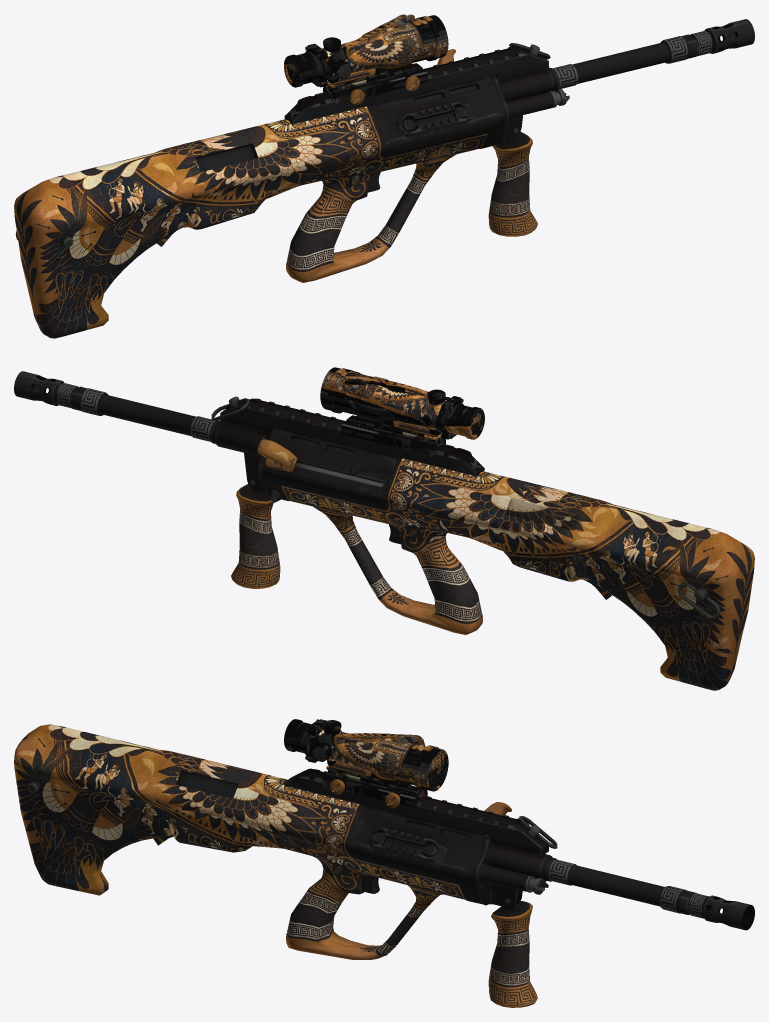
The model's file is w_specialcarbine_stymphalian_birds.glb.
The picture shows the model from 3 angles, top to bottom: view 1: azimuth 30°, elevation 25°; view 2: azimuth 150°, elevation 25°; view 3: azimuth 330°, elevation 25°; orthographic projection.
Parts seen in each view (by area): view 1: Gun_Root; view 2: Gun_Root; view 3: Gun_Root.
Part boxes in pixels (<box>): Gun_Root: <box>14,14,754,338</box>; Gun_Root: <box>14,367,754,690</box>; Gun_Root: <box>14,719,754,1007</box>.
Bounding box in the file's own units: 0.7456 × 0.2318 × 0.0913.
1 material, 1 textured.
